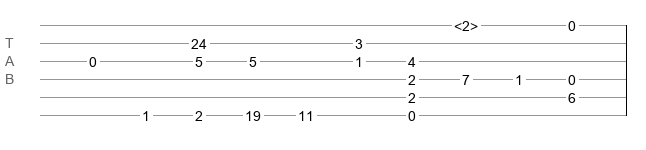0: (89, 54, 97, 64), (408, 108, 416, 118), (568, 72, 576, 82), (568, 18, 576, 28)
1: (142, 108, 150, 118), (355, 54, 363, 64), (515, 72, 523, 82)
11: (298, 108, 314, 118)
19: (245, 108, 261, 118)
2: (195, 108, 203, 118), (408, 72, 416, 82), (408, 90, 416, 100)
24: (191, 36, 207, 46)
3: (355, 36, 363, 46)
4: (408, 54, 416, 64)
5: (195, 54, 203, 64), (249, 54, 257, 64)
6: (568, 90, 576, 100)
7: (462, 72, 470, 82)
harmonic: (454, 18, 478, 28)
